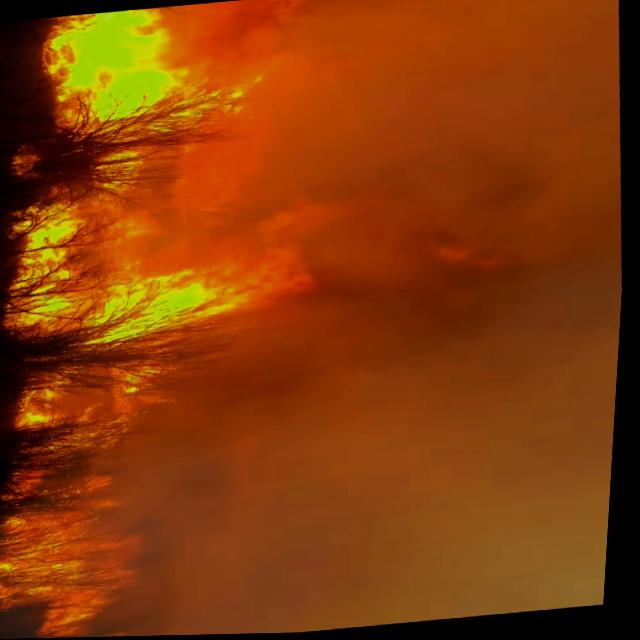fire: (0, 167, 316, 396), (0, 0, 281, 193), (0, 454, 177, 640)
